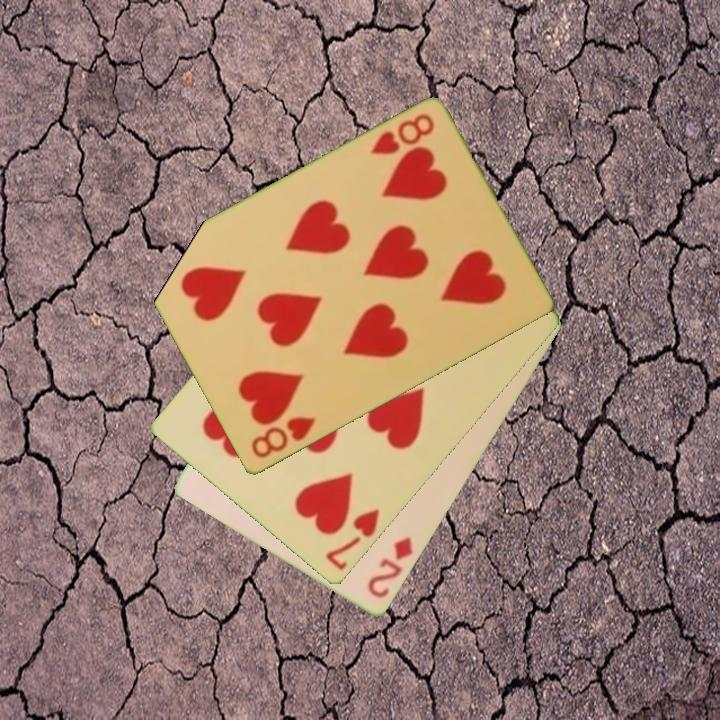2d: (364, 534, 416, 602)
7h: (322, 505, 383, 574)
8h: (247, 413, 319, 462), (366, 110, 437, 159)
